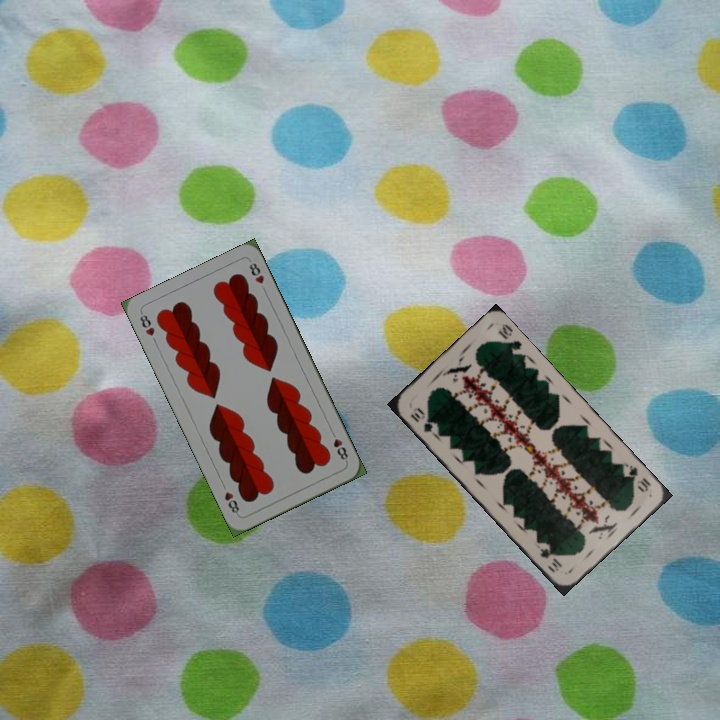G10: (618, 460, 653, 495), (406, 403, 435, 435)
H8: (327, 427, 351, 465), (136, 309, 160, 347)
